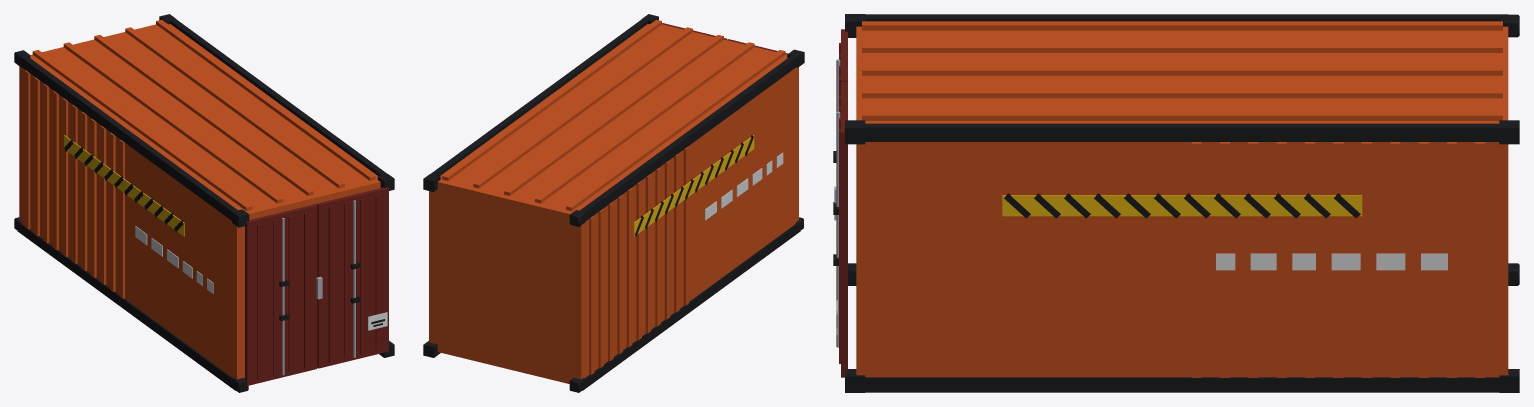
The model's file is crate_iso_container_hazard.glb.
3 renders of one model, left to right at view 1: azimuth 30°, elevation 25°; view 2: azimuth 150°, elevation 25°; view 3: azimuth 270°, elevation 25°, orthographic. The views are drawn at different scales.
Parts seen in each view (by area): view 1: crate_iso_container_hazard; view 2: crate_iso_container_hazard; view 3: crate_iso_container_hazard.
Part boxes in pixels (x1,y1,x2,y2): crate_iso_container_hazard: [14, 14, 394, 392]; crate_iso_container_hazard: [423, 14, 804, 392]; crate_iso_container_hazard: [833, 14, 1519, 392].
Bounding box in the file's own units: 2.48 × 2.62 × 6.11.
